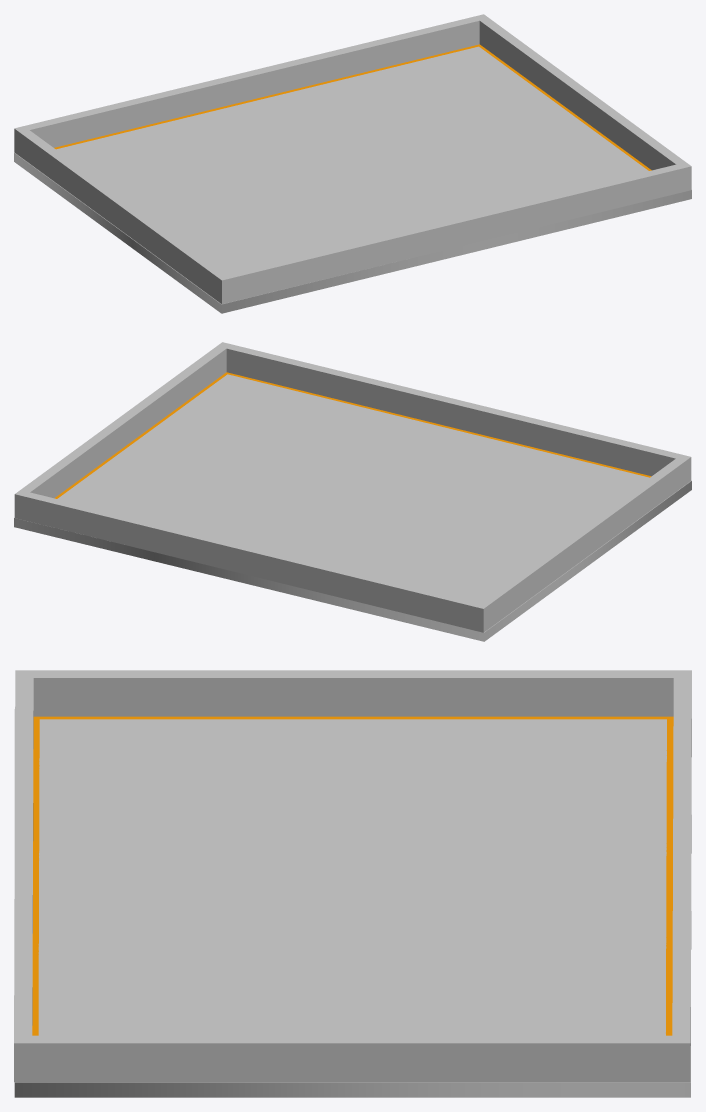
Rendered from Duel_Stage 55.fbx.
3 renders of one model, top to bottom at view 1: azimuth 30°, elevation 25°; view 2: azimuth 150°, elevation 25°; view 3: azimuth 270°, elevation 25°, orthographic. The views are drawn at different scales.
Visible parts, largest first — view 1: DB_Platform_Cube_Floor.021, DB_Platform_Cube_Floor.022, DB_Platform_Cube_Floor.023; view 2: DB_Platform_Cube_Floor.021, DB_Platform_Cube_Floor.022, DB_Platform_Cube_Floor.023; view 3: DB_Platform_Cube_Floor.021, DB_Platform_Cube_Floor.022, DB_Platform_Cube_Floor.023.
Boxes of the visible parts, <box> form: DB_Platform_Cube_Floor.021: <box>14,46,691,313</box>; DB_Platform_Cube_Floor.022: <box>14,14,691,304</box>; DB_Platform_Cube_Floor.023: <box>54,44,651,170</box>; DB_Platform_Cube_Floor.021: <box>14,374,691,641</box>; DB_Platform_Cube_Floor.022: <box>14,342,691,632</box>; DB_Platform_Cube_Floor.023: <box>54,372,651,498</box>; DB_Platform_Cube_Floor.021: <box>14,709,690,1097</box>; DB_Platform_Cube_Floor.022: <box>14,670,691,1082</box>; DB_Platform_Cube_Floor.023: <box>32,716,673,1035</box>.
Size of the model in its own units: 5357 by 359 by 4107.
